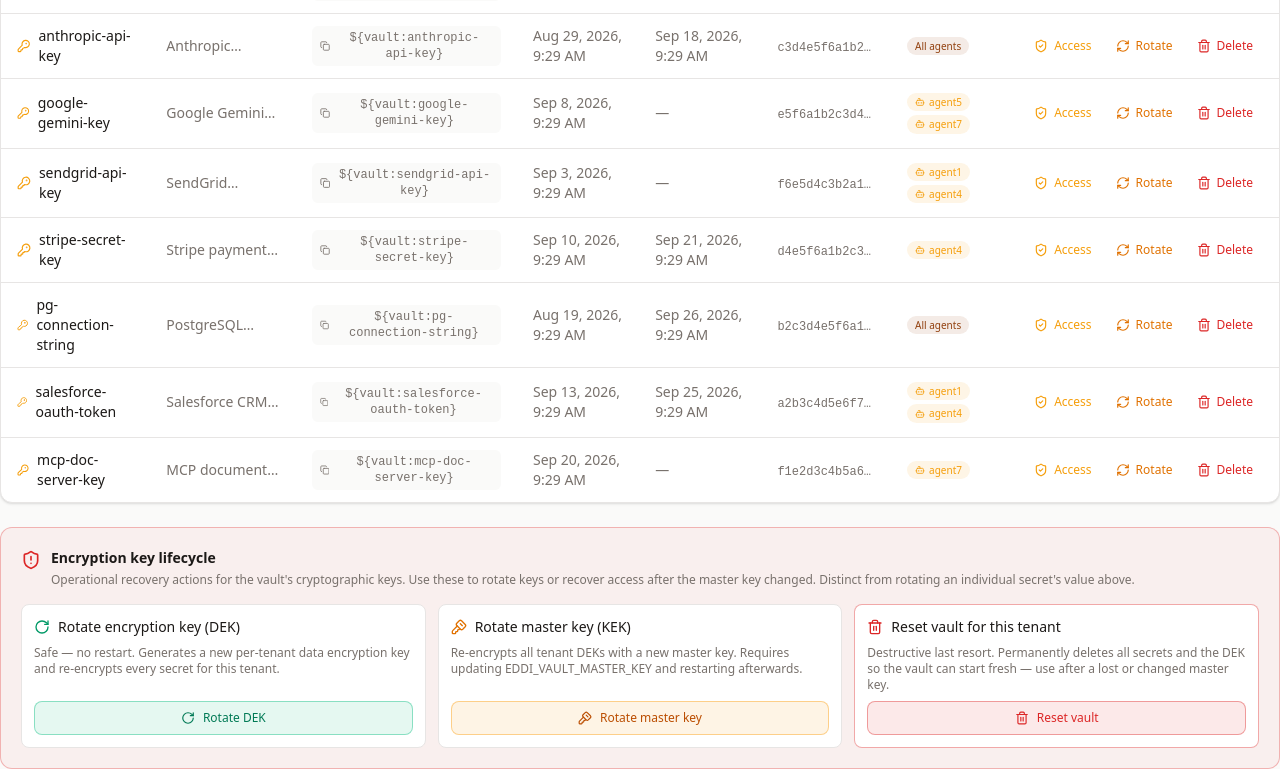
it: SecretsPage — key lifecycle danger zone › KEK dialog warns that keys travel in the request body (TLS)
The image size is (1280, 769).
(page scrolled)
Click the button with test id "open-rotate-kek" at (640, 718), box x1=451 y1=701 x2=829 y2=735
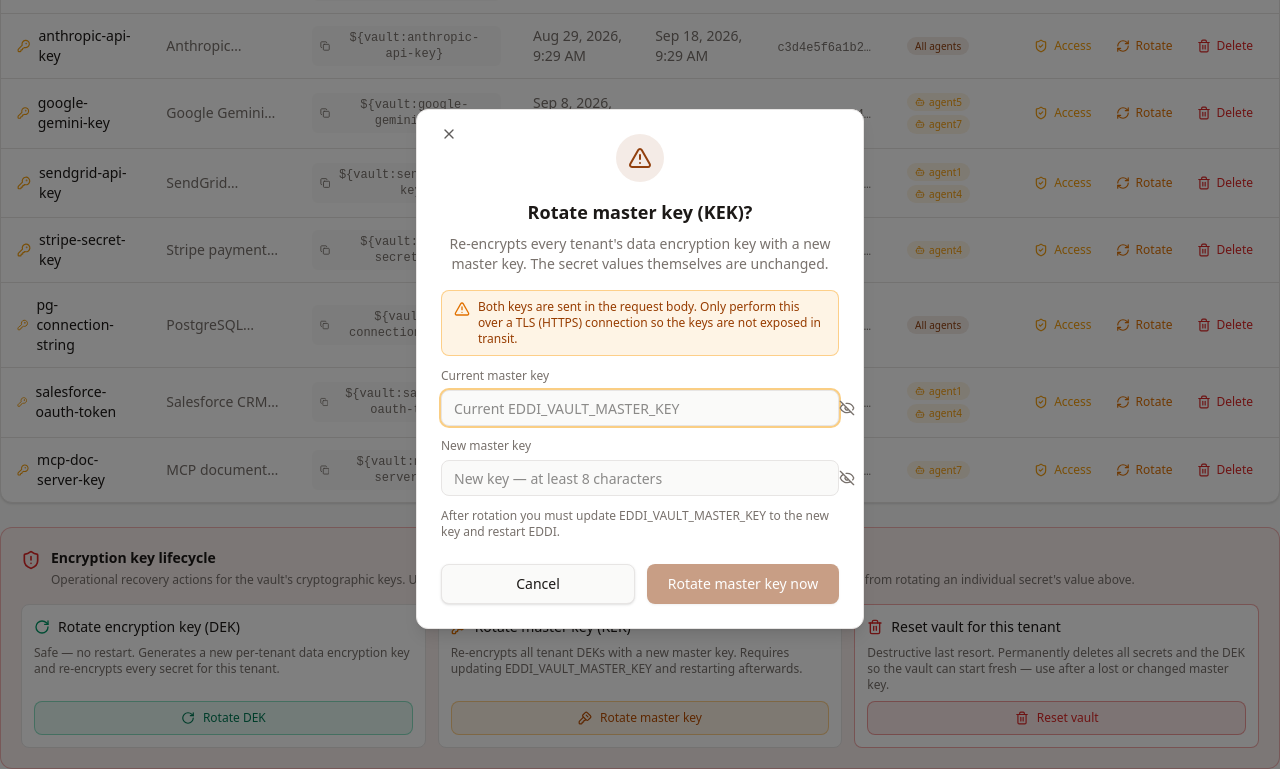
expect the text "request body" is shown: met, box x1=478 y1=298 x2=821 y2=347
